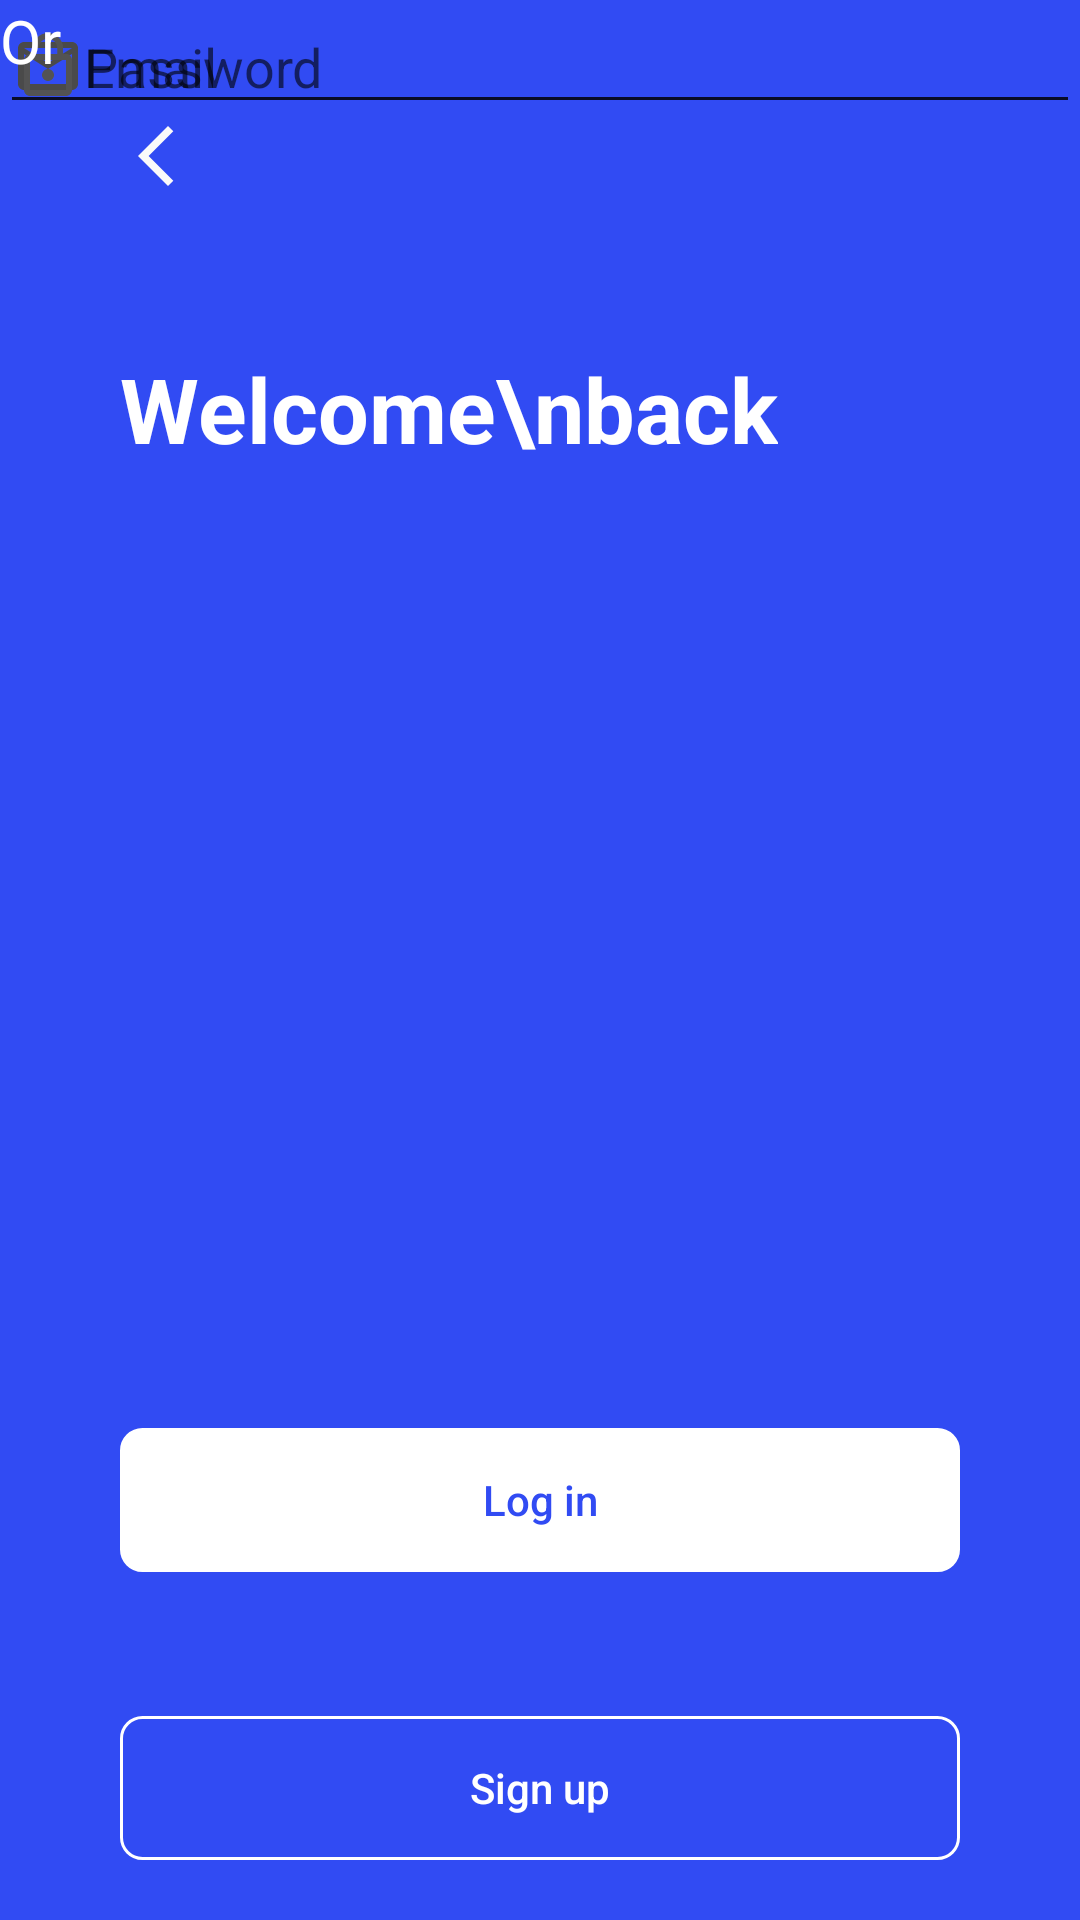

Icons on this 1080*1920 Android screen, each with the point to tap as (x,y):
back: (155,156)
